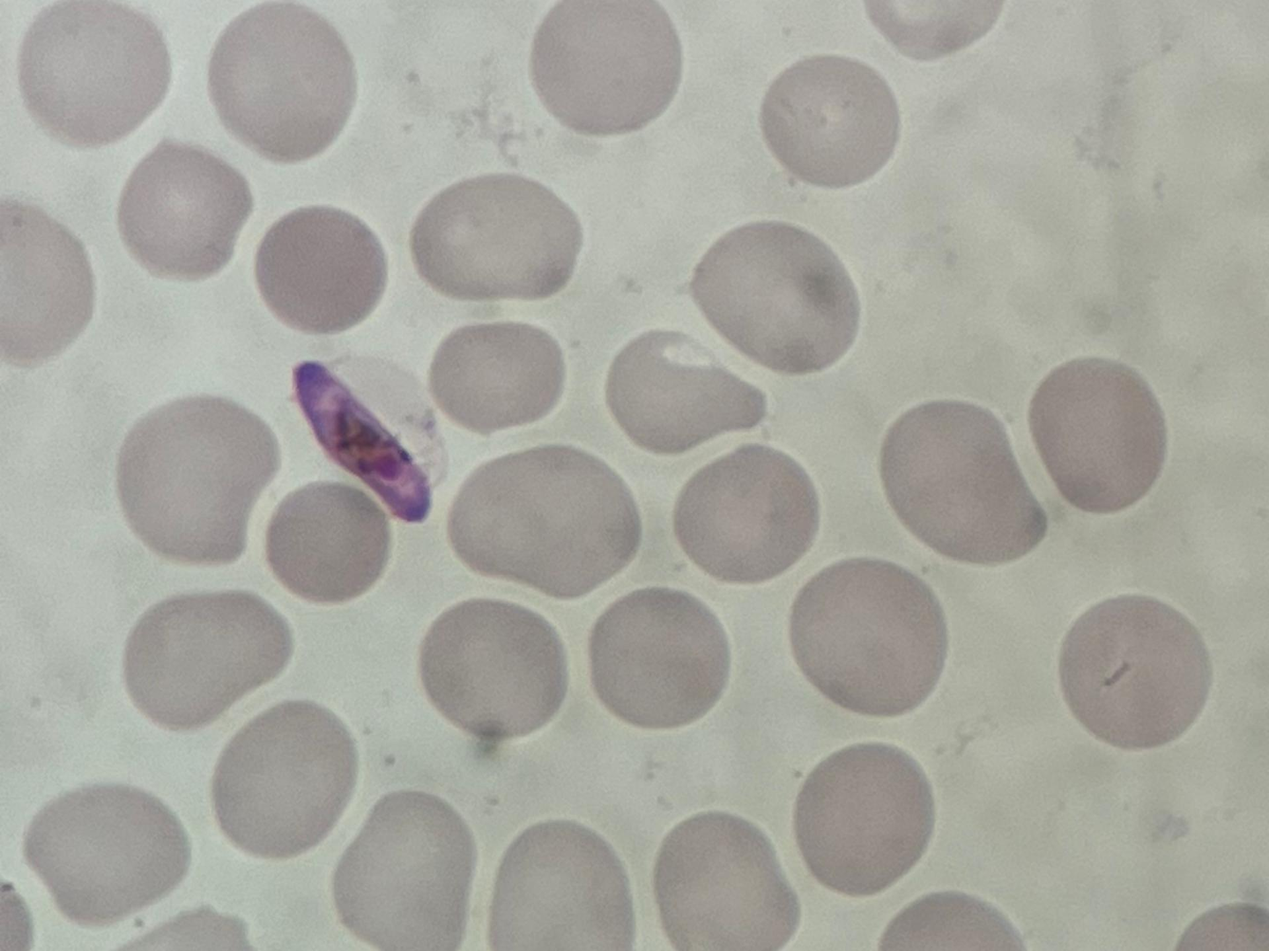Infected: (291, 354, 455, 524)
Uninfected: (448, 445, 642, 600), (877, 399, 1047, 565), (114, 395, 273, 567), (691, 218, 858, 372), (207, 0, 362, 163), (25, 780, 195, 926), (791, 555, 944, 717), (1059, 597, 1209, 752), (793, 739, 938, 896), (126, 592, 292, 727), (408, 172, 582, 299), (334, 795, 474, 951), (213, 704, 356, 855), (18, 0, 169, 141), (651, 812, 803, 951), (674, 443, 818, 588), (1029, 359, 1164, 512), (489, 815, 640, 951), (527, 0, 677, 134), (606, 329, 766, 454), (421, 603, 568, 738), (587, 590, 728, 730), (761, 56, 902, 192), (117, 147, 253, 283), (256, 207, 385, 333), (426, 319, 562, 435), (268, 483, 393, 606), (0, 204, 91, 368)
